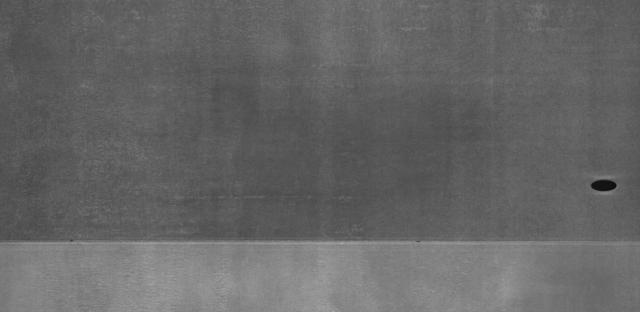punching_hole: (588, 174, 621, 198)
welding_line: (8, 227, 634, 255)
